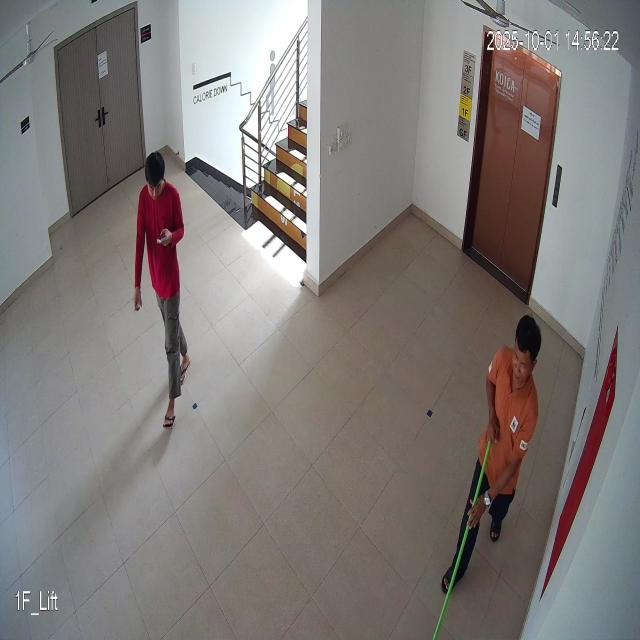face: (510, 312, 542, 389), (142, 149, 168, 201)
